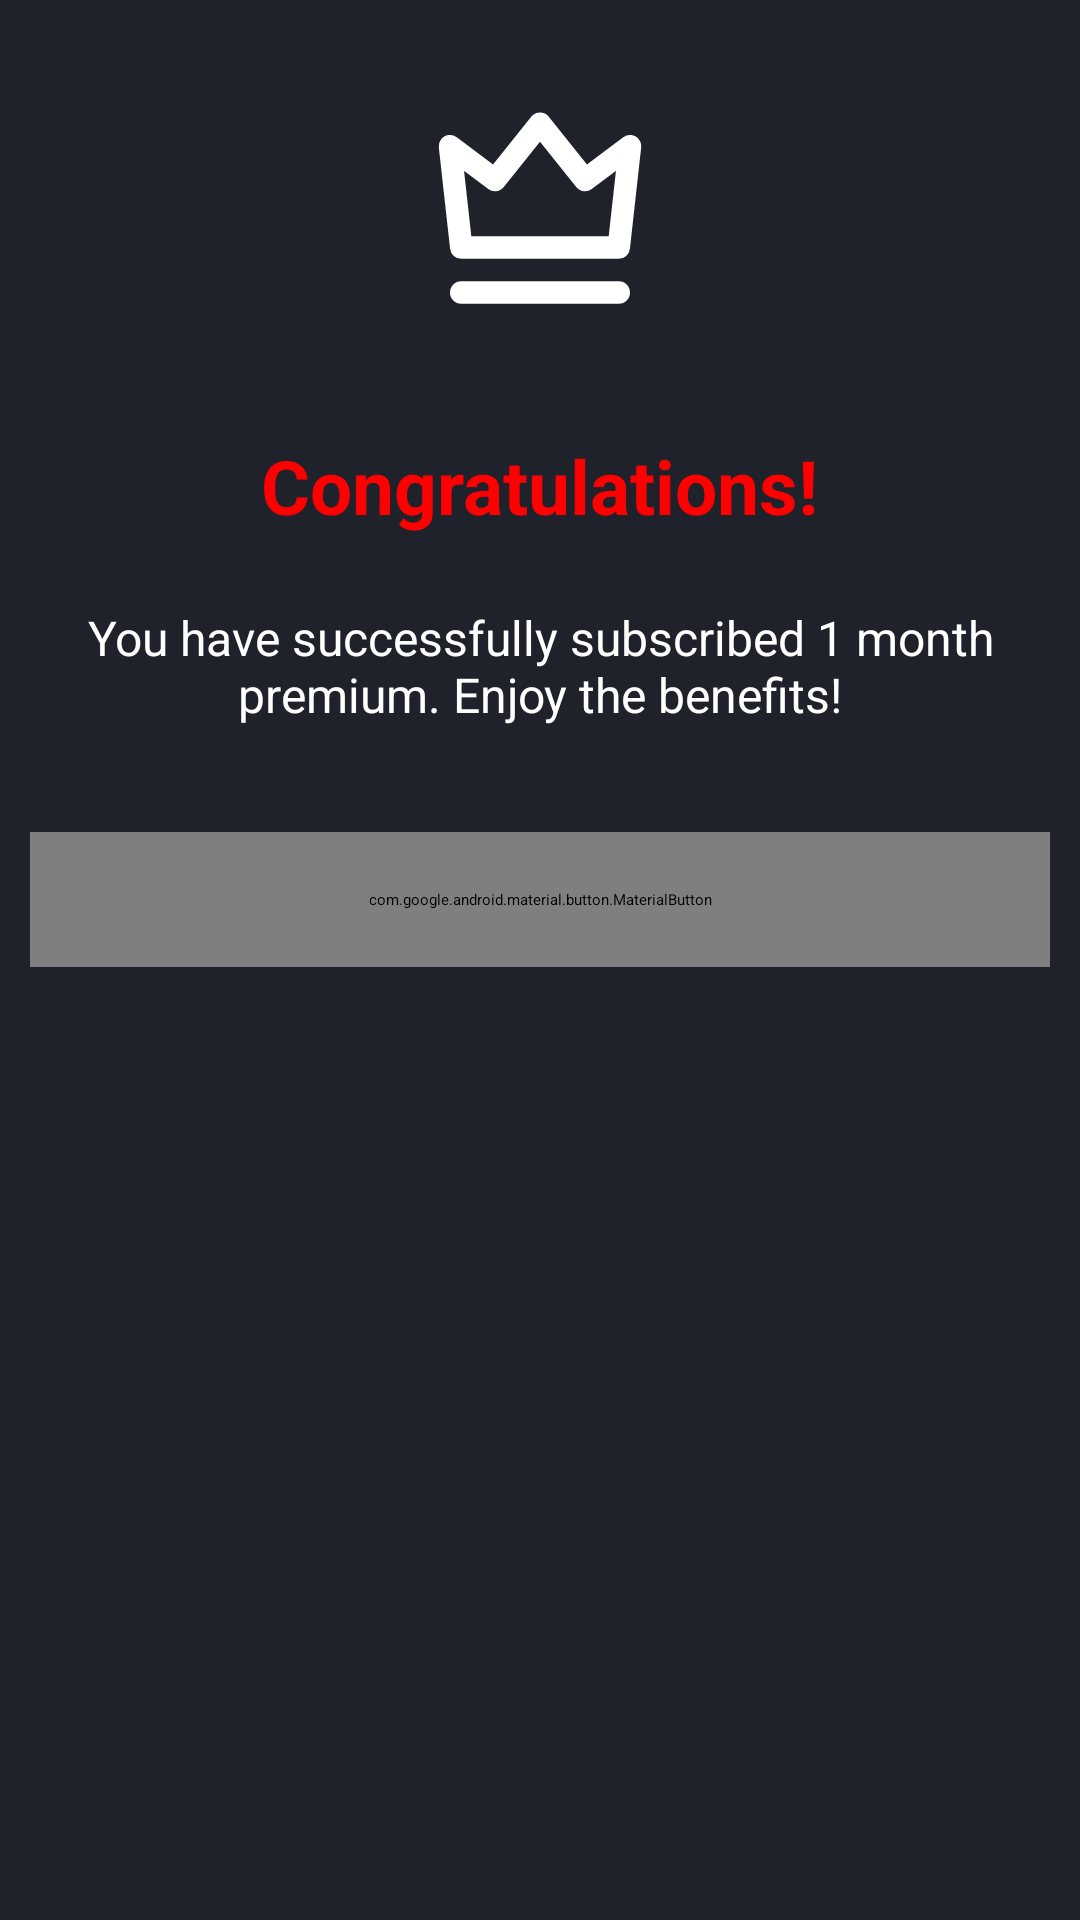

Where icons sit on this 1080px×1920px app screen, as (x1,y1,x2,y2):
crown: (438,112,642,304)
